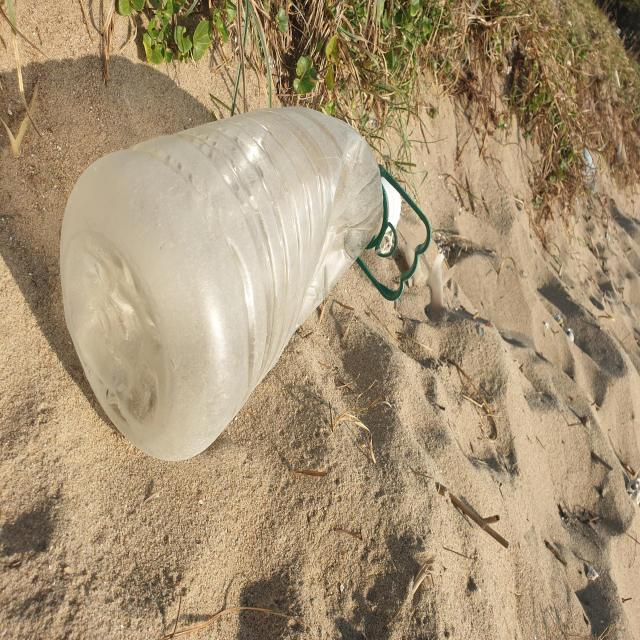plastic: (59, 106, 432, 460)
